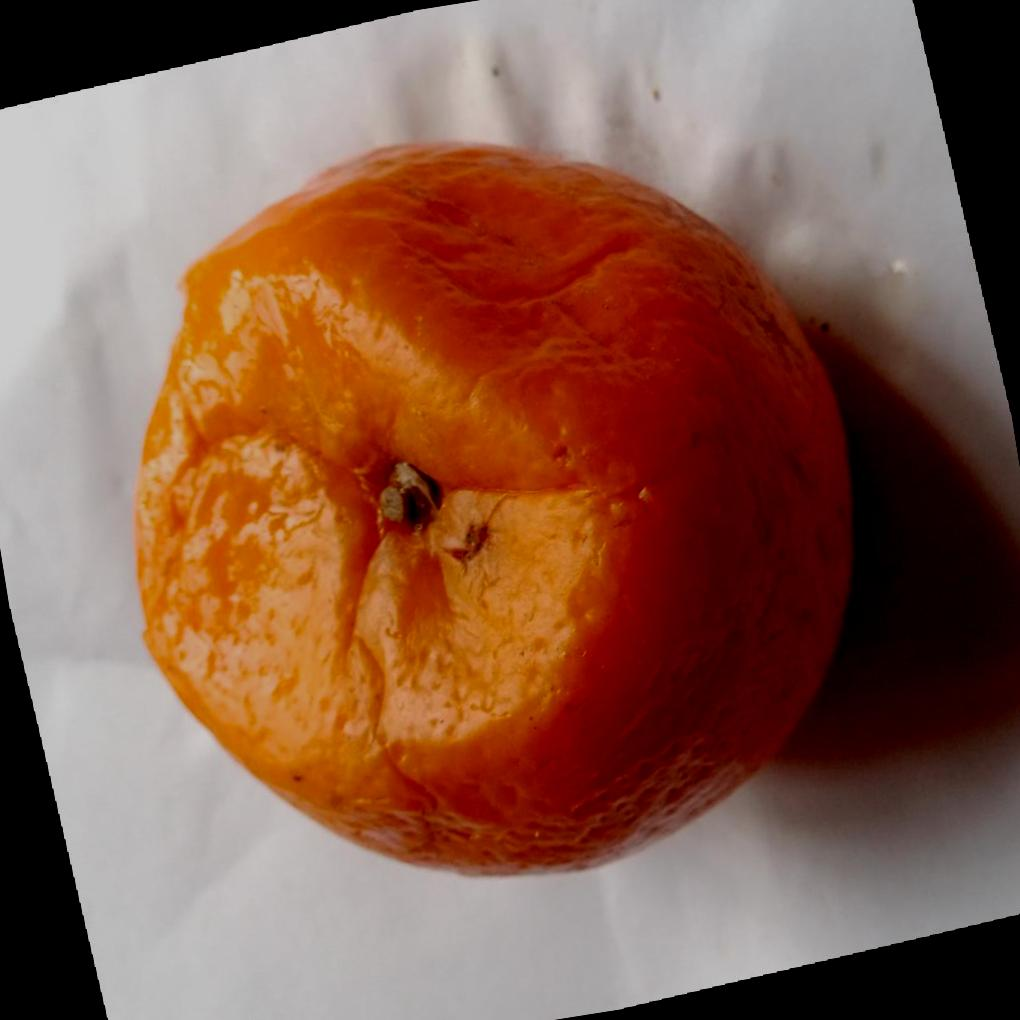FreshOrange: (133, 138, 862, 877)
